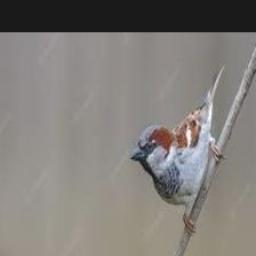Sparrow: (130, 65, 225, 236)
